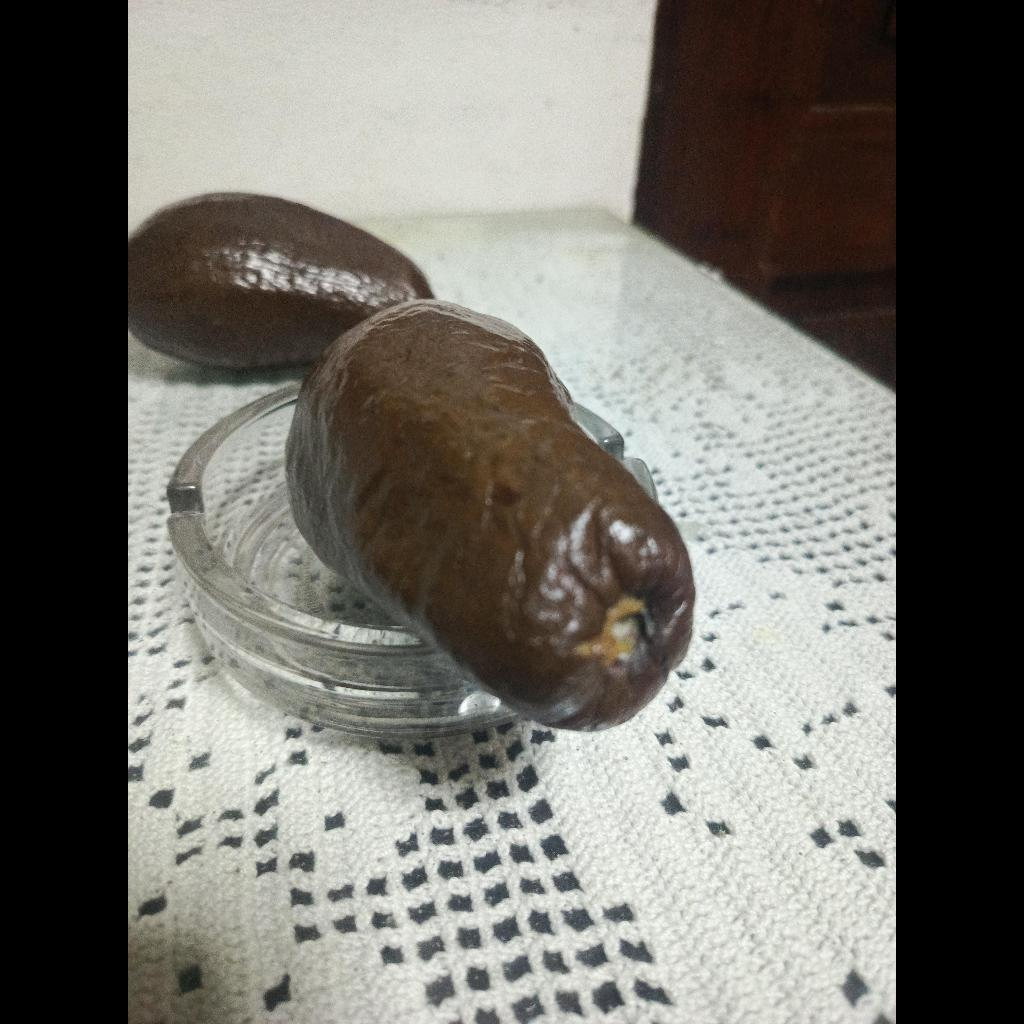stem end rot: (286, 300, 695, 729)
